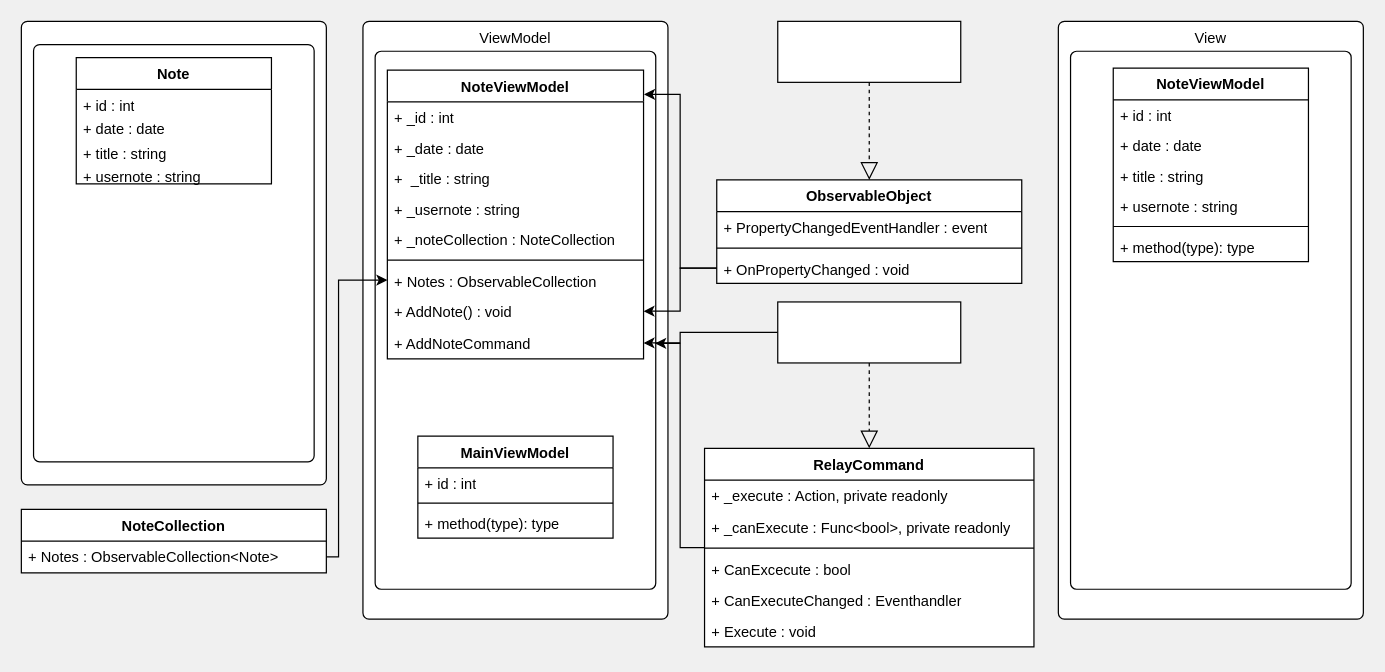
The diagram is 1385 pixels wide and 672 high, and some of its shapes have lost their labels. The centre of each missing label's shape, as x and y in pixels:
"Model" belongs at (x=173, y=34).
"«interface» ICommand" belongs at (x=869, y=332).
"«interface» INotifyPropertyChanged" belongs at (x=869, y=51).
